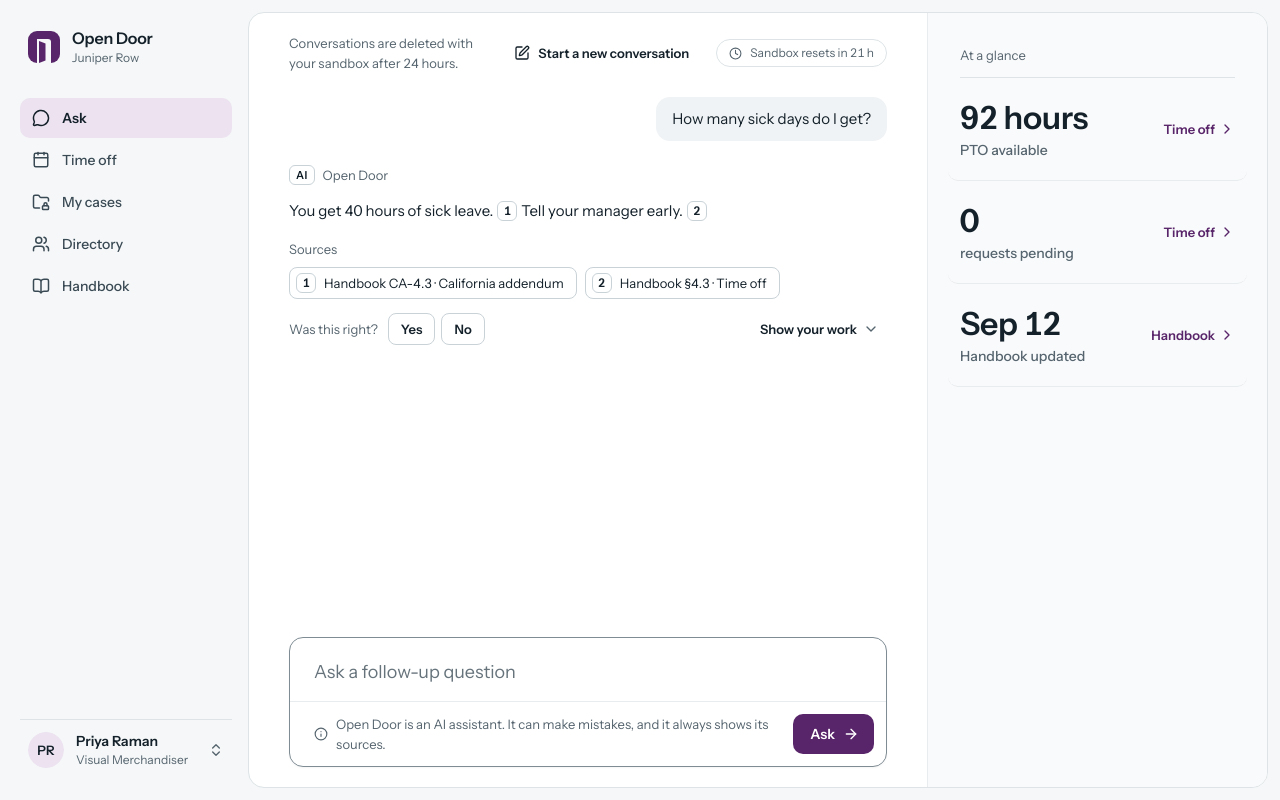
it: the docked panel (a wide window) › closes when "Start a new conversation" replaces the conversation, by going back over the panel's step
The image size is (1280, 800).
Click the button named "Source 1: Handbook CA-4.3, California addendum" at (507, 211), box x1=497 y1=201 x2=517 y2=221
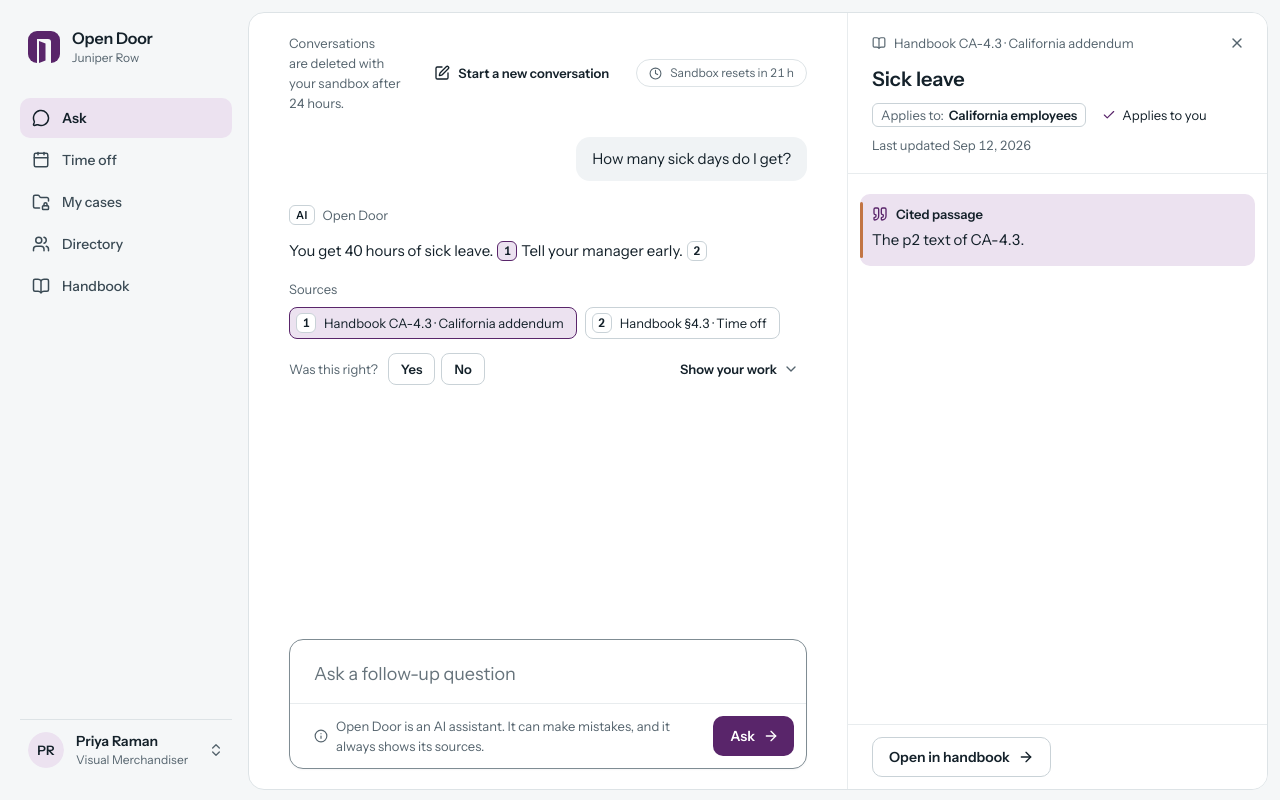
Click the button "Start a new conversation" at (522, 73), box x1=423 y1=57 x2=620 y2=89
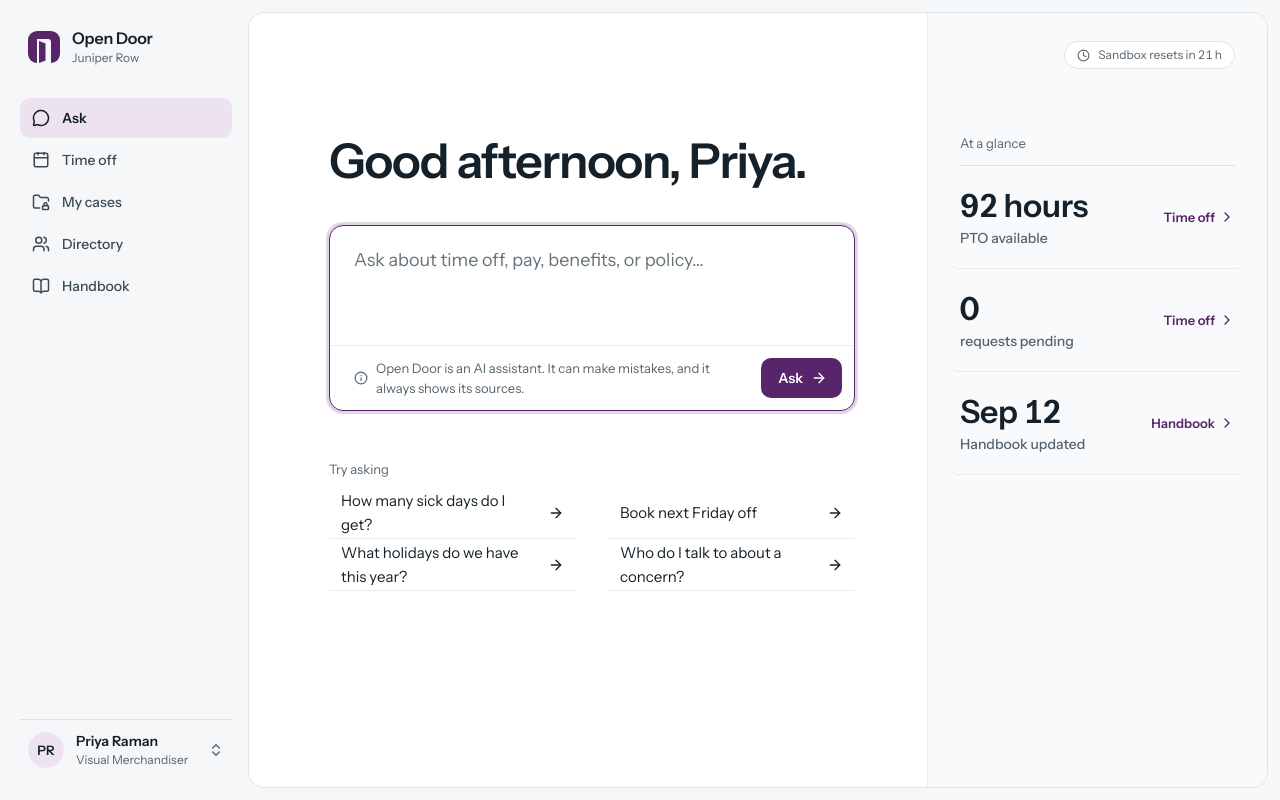
Expected: the heading "Good afternoon, Priya." is shown, x1=329 y1=133 x2=855 y2=189
